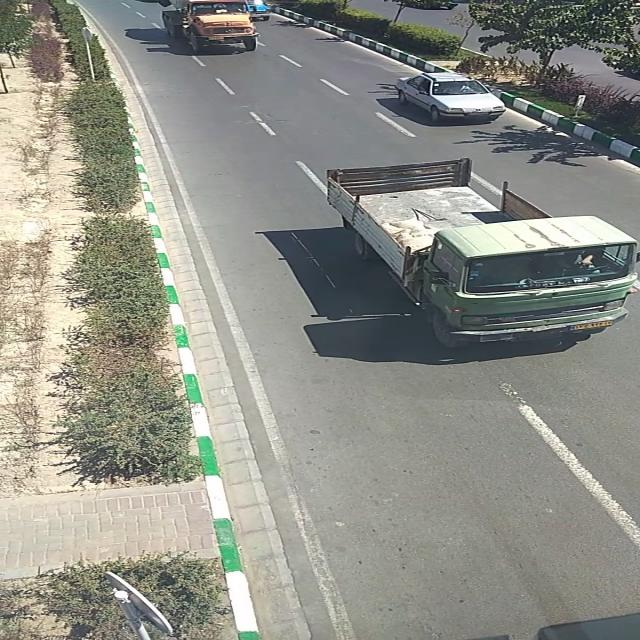car: (398, 71, 507, 121)
truck: (326, 160, 639, 346), (161, 0, 261, 52)
